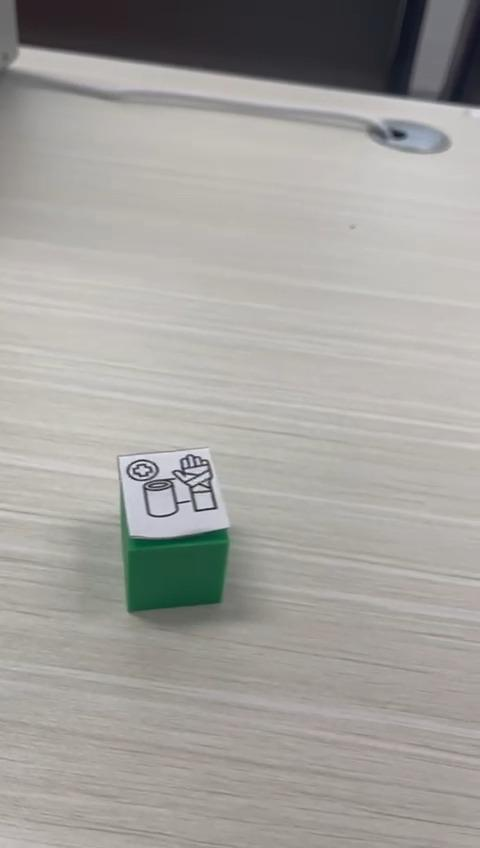Bandages: (117, 447, 227, 614)
